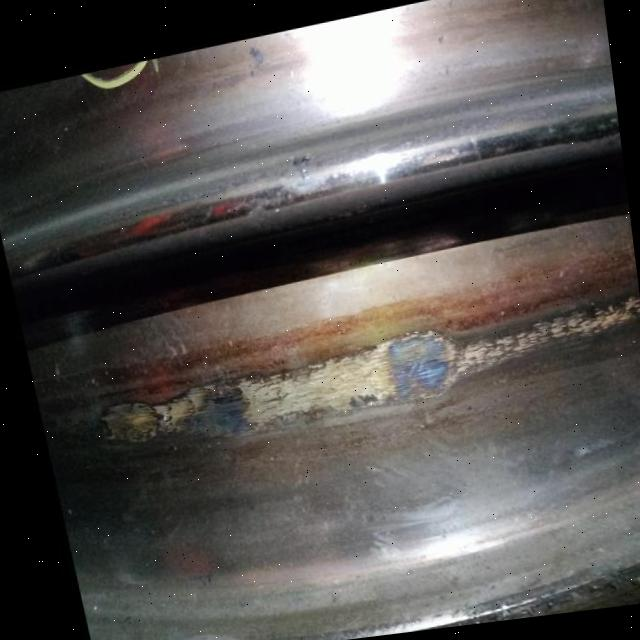Rollerpile: (86, 278, 640, 458)
